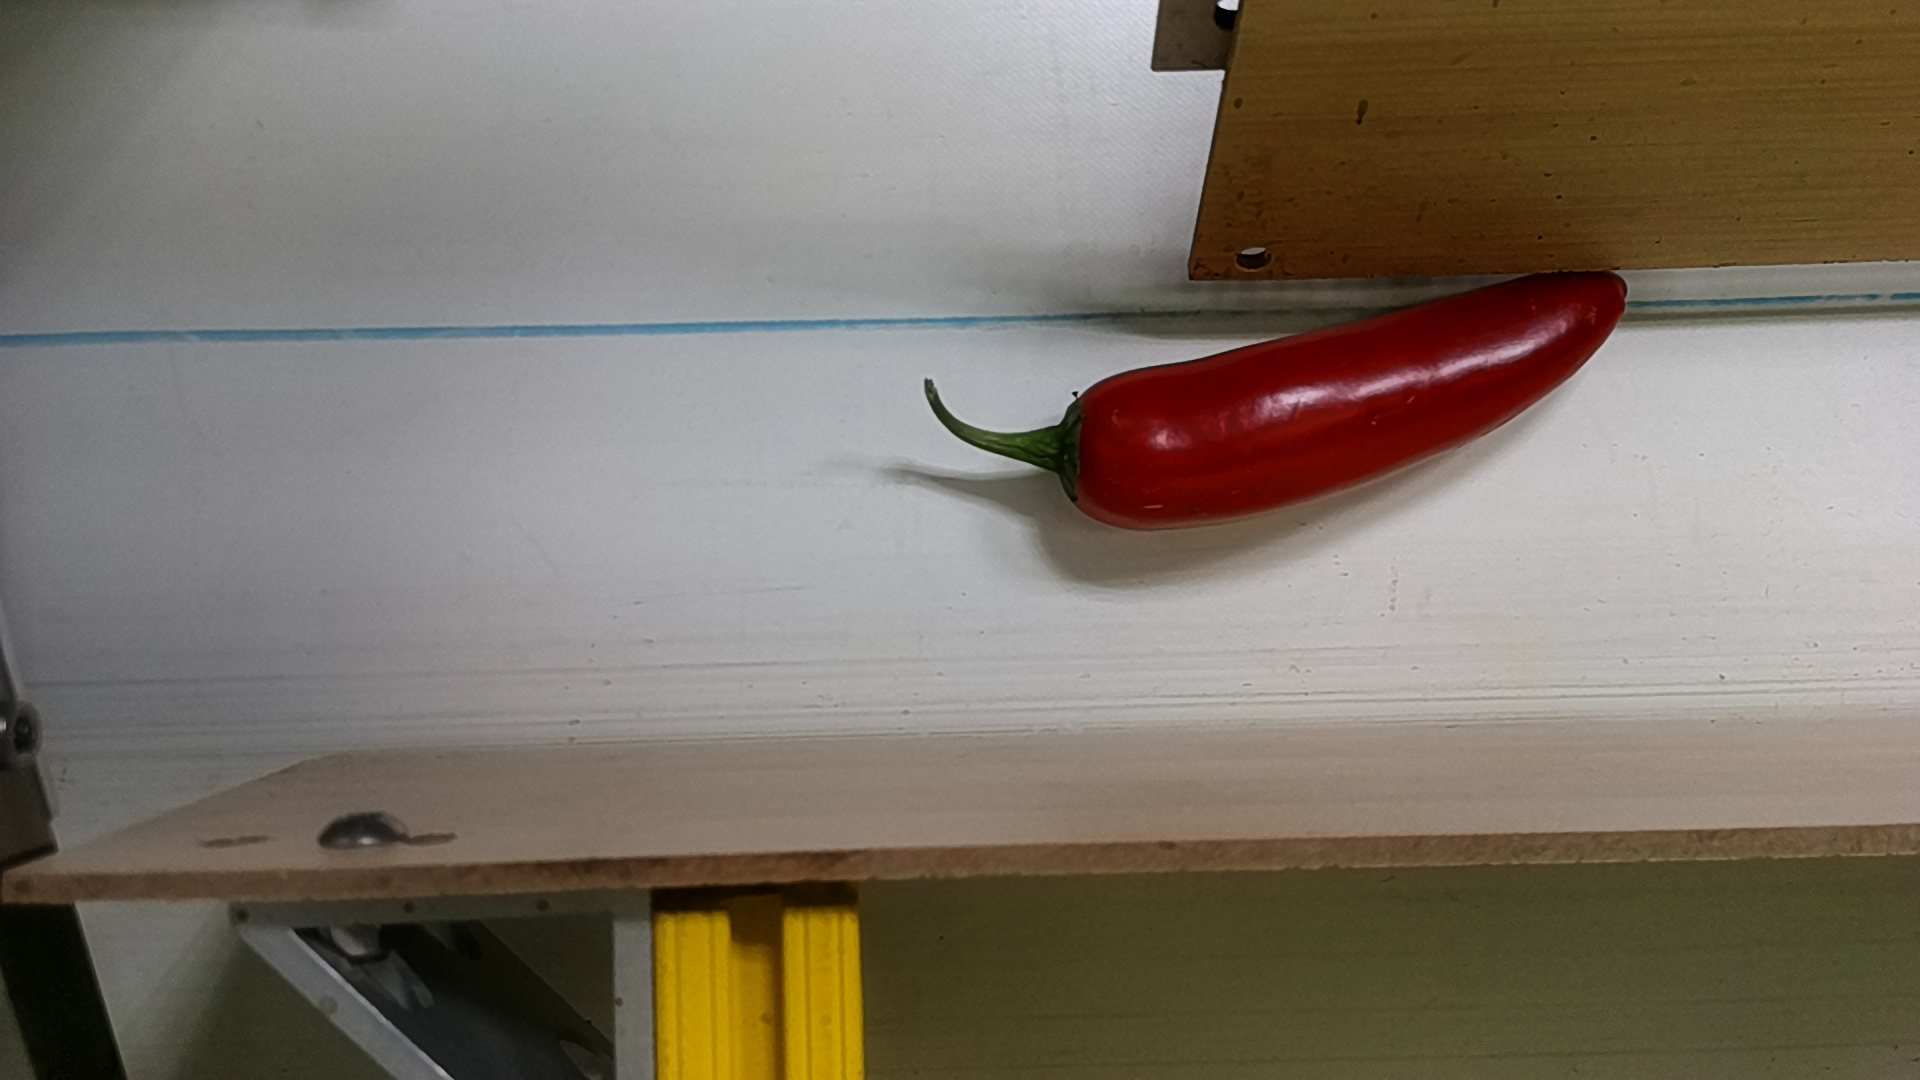Cut Point: (1036, 375, 1137, 535)
